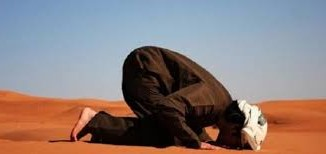sujud: (71, 43, 266, 151)
